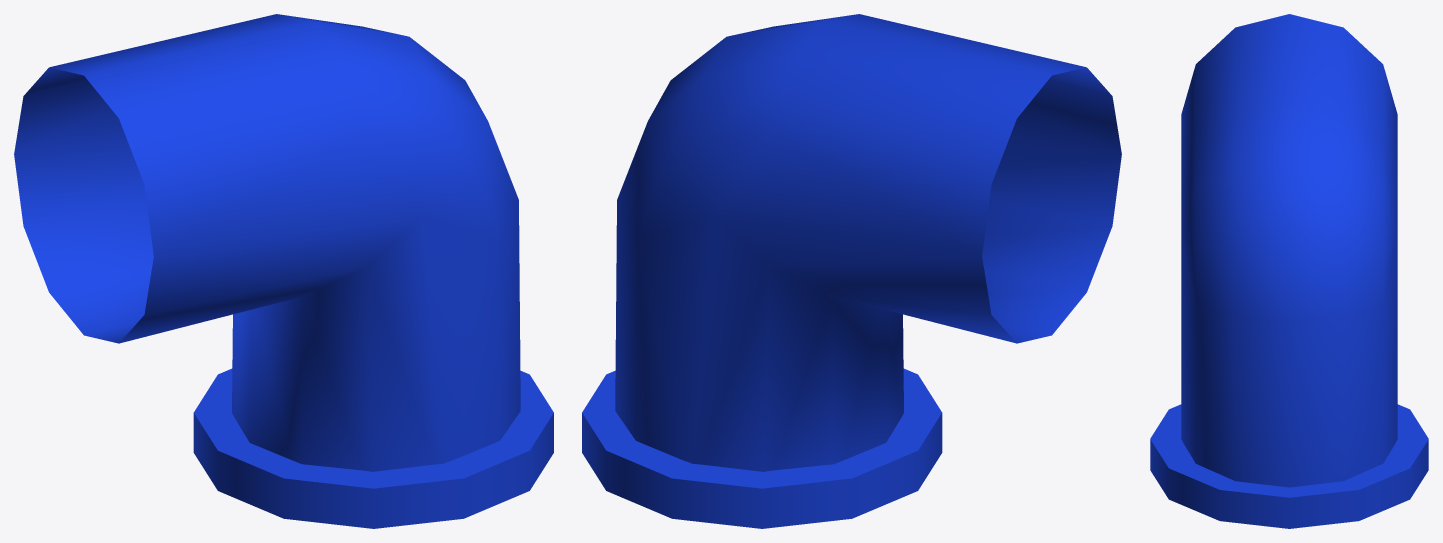
File: pipe7.fbx
3 renders of one model, left to right at view 1: azimuth 30°, elevation 25°; view 2: azimuth 150°, elevation 25°; view 3: azimuth 270°, elevation 25°, orthographic. The views are drawn at different scales.
Parts seen in each view (by area): view 1: 1.005; view 2: 1.005; view 3: 1.005.
Boxes of the visible parts, <box> form: 1.005: <box>14,14,553,528</box>; 1.005: <box>582,14,1121,528</box>; 1.005: <box>1150,14,1428,528</box>.
Size of the model in its own units: 2606 by 2503 by 1823.
